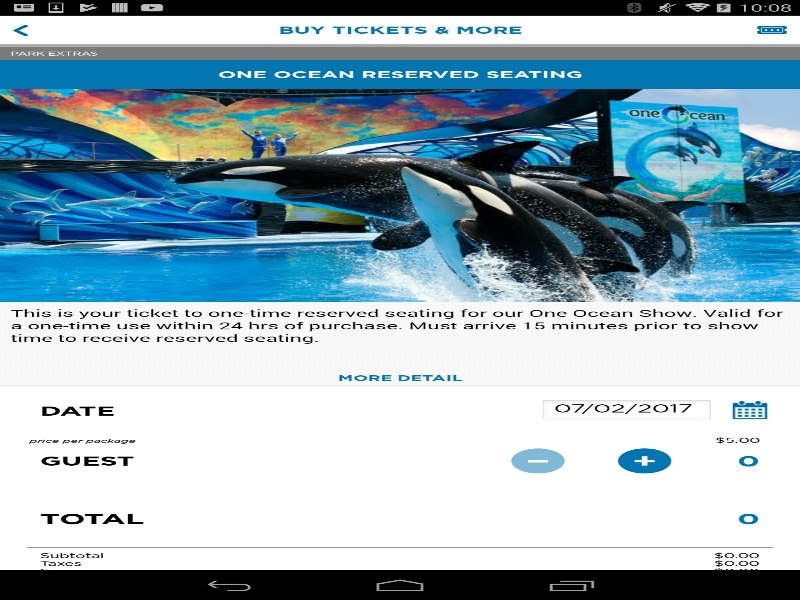Button: (0, 15, 56, 44), (757, 15, 800, 44)
Input: (540, 400, 713, 421)
